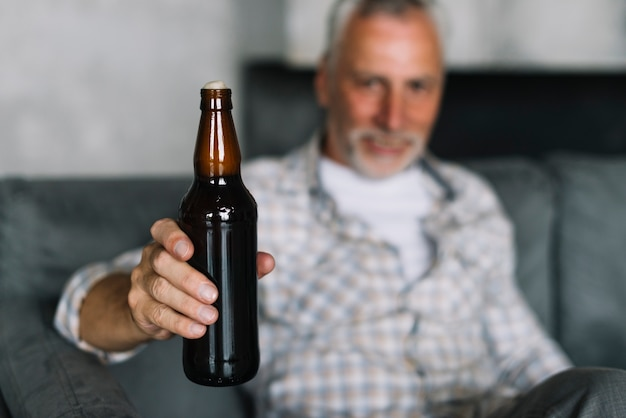alcohol: (173, 83, 262, 388)
